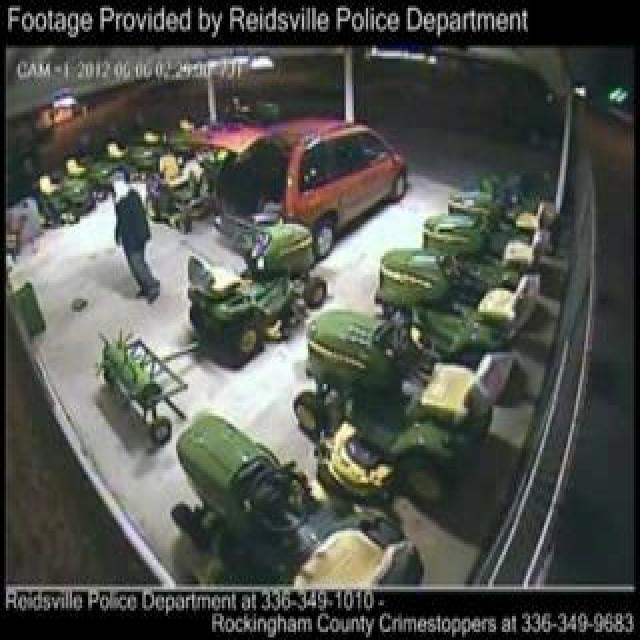thief: (80, 153, 156, 263)
